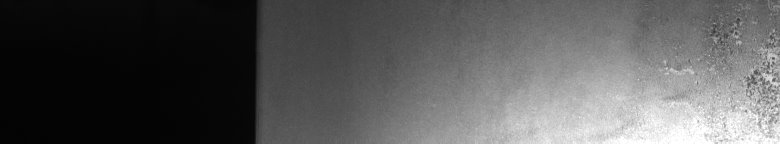hc: (663, 4, 776, 132)
